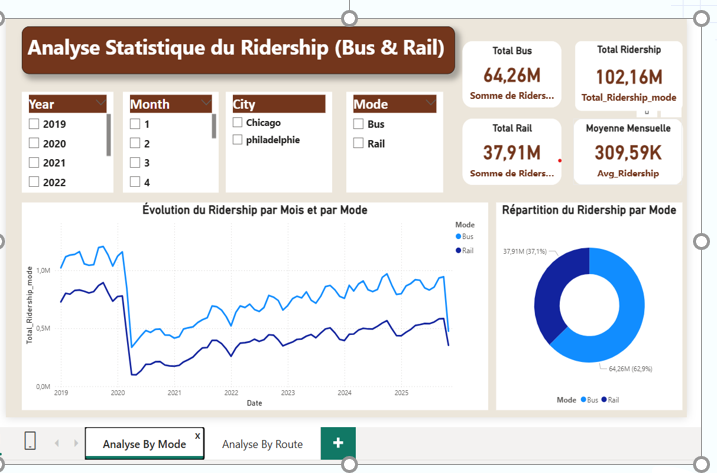

The page's visual inventory and layout, read from the dashboard file:
{"tool":"powerbi","page":{"name":"Analyse By Mode","canvas":[1280,720],"ordinal":0},"visuals":[{"type":"slicer","fields":{"Values":["table_Dim_City.City"]},"box":[414,132,200,182],"z":0},{"type":"slicer","fields":{"Values":["table_Dim_Year.Year"]},"box":[30,132,172,182],"z":1000},{"type":"donutChart","title":"Répartition du Ridership par Mode","fields":{"Category":["table_Dim_Mode.Mode"],"Y":["_Mesures.Total_Ridership_mode"]},"box":[921.7,331.7,350,375],"z":2000},{"type":"lineChart","title":"Évolution du Ridership par Mois et par Mode","fields":{"Y":["_Mesures.Total_Ridership_mode"],"Series":["table_Dim_Mode.Mode"],"Category":["table_de_fait_mode.Date"]},"box":[30,331.7,876.7,375],"z":3000},{"type":"textbox","box":[30,14,814,86],"z":4000},{"type":"card","title":"Moyenne Mensuelle","fields":{"Values":["_Mesures.Avg_Ridership"]},"box":[1066,180,206,120],"z":5000},{"type":"slicer","fields":{"Values":["table_Dim_Mode.Mode"]},"box":[640,132,182,182],"z":6000},{"type":"slicer","fields":{"Values":["table_Dim_Month.Month"]},"box":[220,132,180,182],"z":7000},{"type":"card","title":"Total Rail","fields":{"Values":["Sum(table_de_fait_mode.Ridership)"]},"box":[858,180,186,120],"z":8000},{"type":"card","title":"Total Bus","fields":{"Values":["Sum(table_de_fait_mode.Ridership)"]},"box":[858,40,186,120],"z":9000},{"type":"card","title":"Total Ridership","fields":{"Values":["_Mesures.Total_Ridership_mode"]},"box":[1070,40,202,126],"z":10000}]}

Visuals, with their boxes on the page's 1280x720 design canvas (x1, y1, x2, y2). These are canvas units, not pixel positions in the 717x473 screenshot, which may show the page scaled, cropped or inside an application window:
slicer - table_Dim_City.City: crop(414, 132, 614, 314)
slicer - table_Dim_Year.Year: crop(30, 132, 202, 314)
"Répartition du Ridership par Mode" donutChart: crop(922, 332, 1272, 707)
"Évolution du Ridership par Mois et par Mode" lineChart: crop(30, 332, 907, 707)
textbox: crop(30, 14, 844, 100)
"Moyenne Mensuelle" card: crop(1066, 180, 1272, 300)
slicer - table_Dim_Mode.Mode: crop(640, 132, 822, 314)
slicer - table_Dim_Month.Month: crop(220, 132, 400, 314)
"Total Rail" card: crop(858, 180, 1044, 300)
"Total Bus" card: crop(858, 40, 1044, 160)
"Total Ridership" card: crop(1070, 40, 1272, 166)
